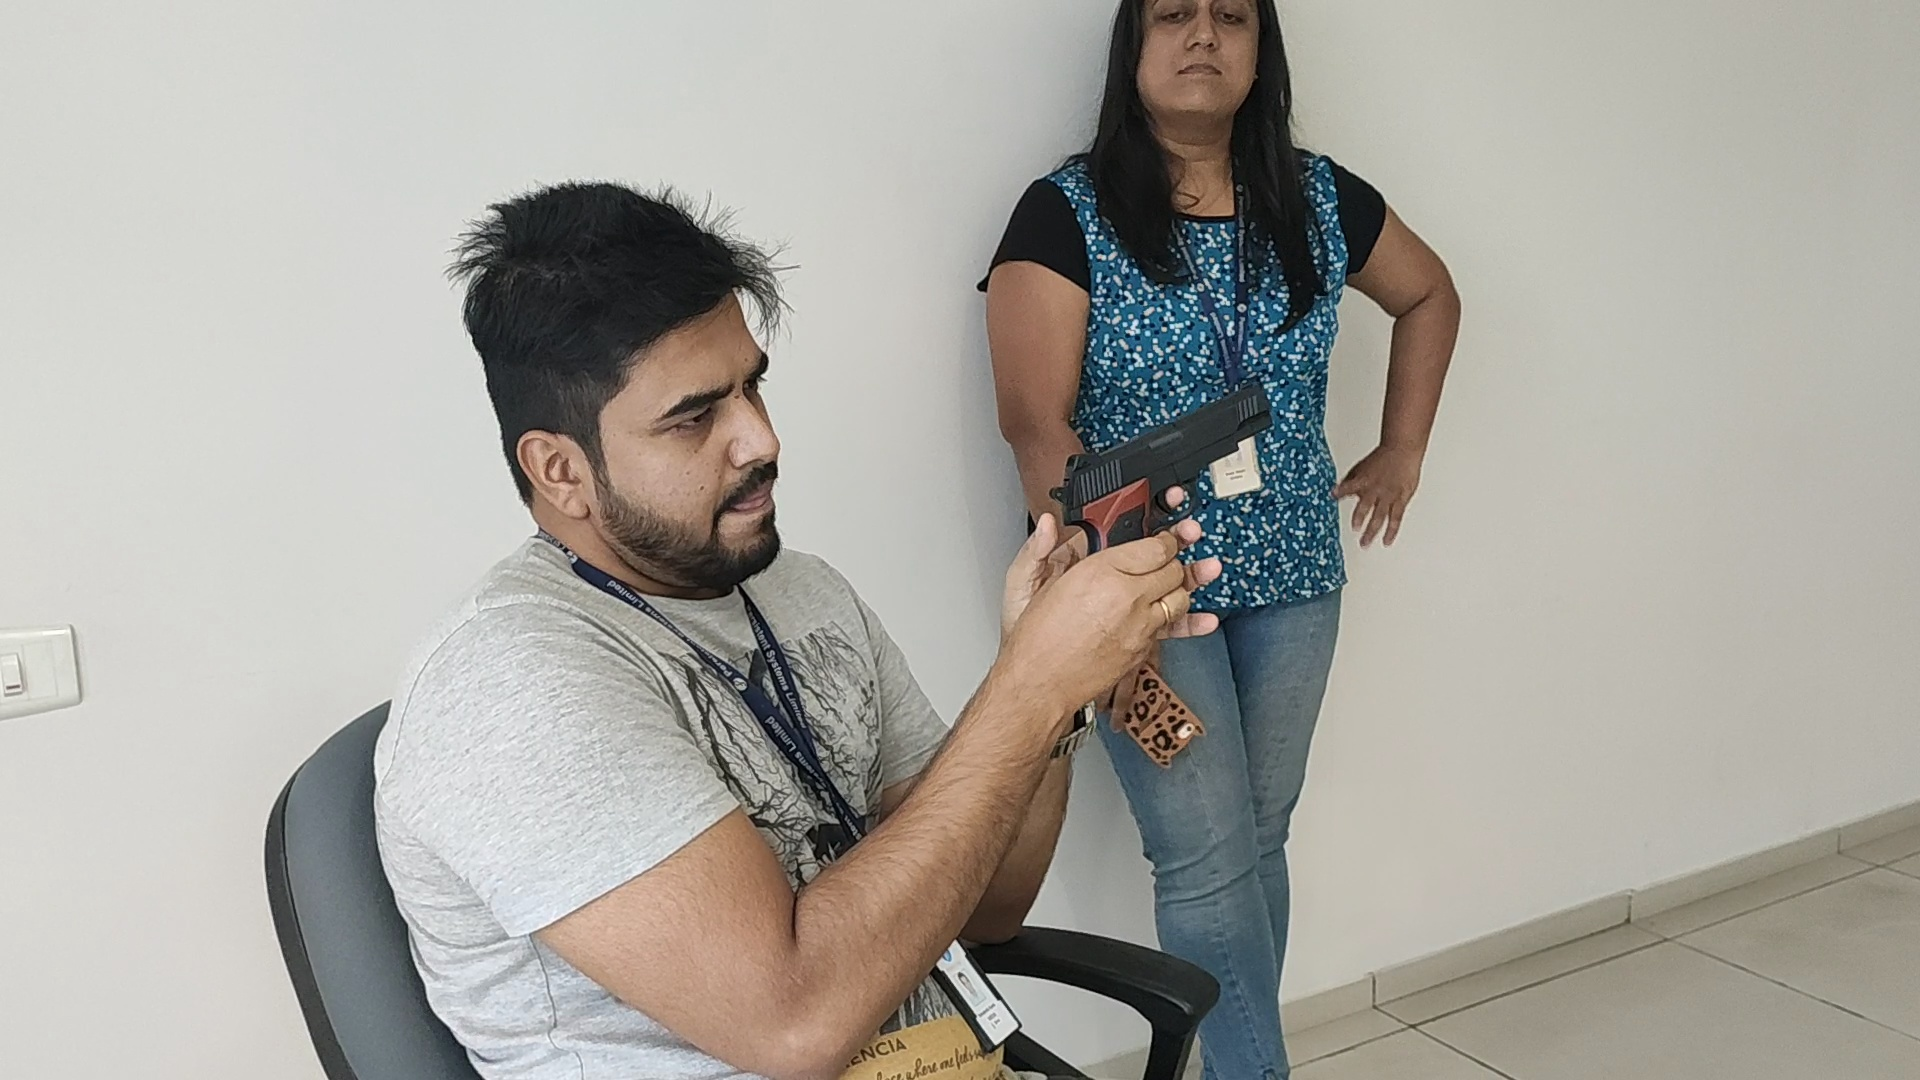gun: (1048, 382, 1273, 512)
